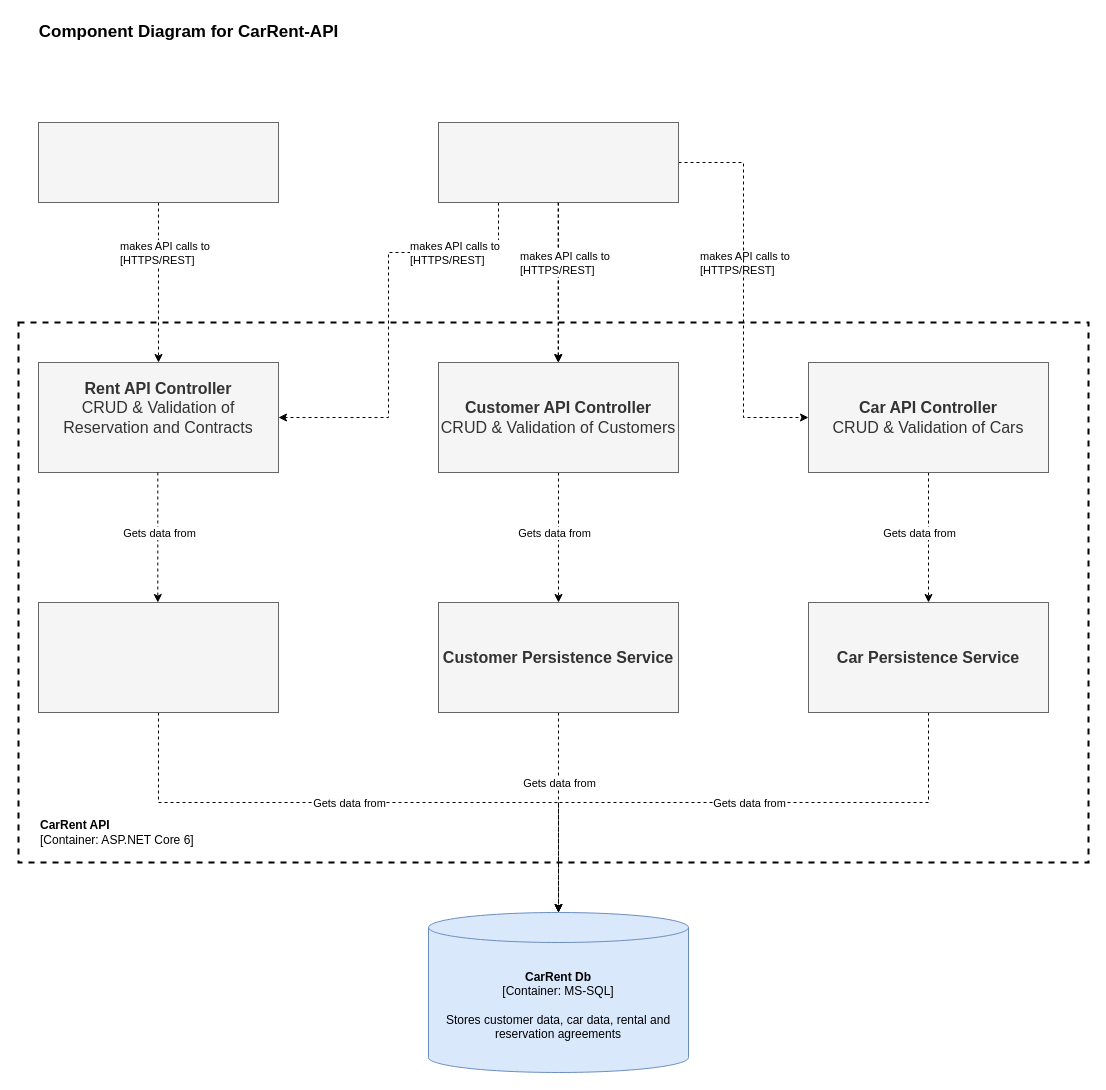
This 1106x1090 diagram has some shape labels left out. The centre of each missing label's shape, as x and y in pixels:
"Rent Persistence Service" goes at [158,657].
"Single Page Application [Container: JS/HTML/CSS] Clerk Access" goes at [558,162].
"Single Page Application [Container: JS/HTML/CSS] Client Access" goes at [158,162].
